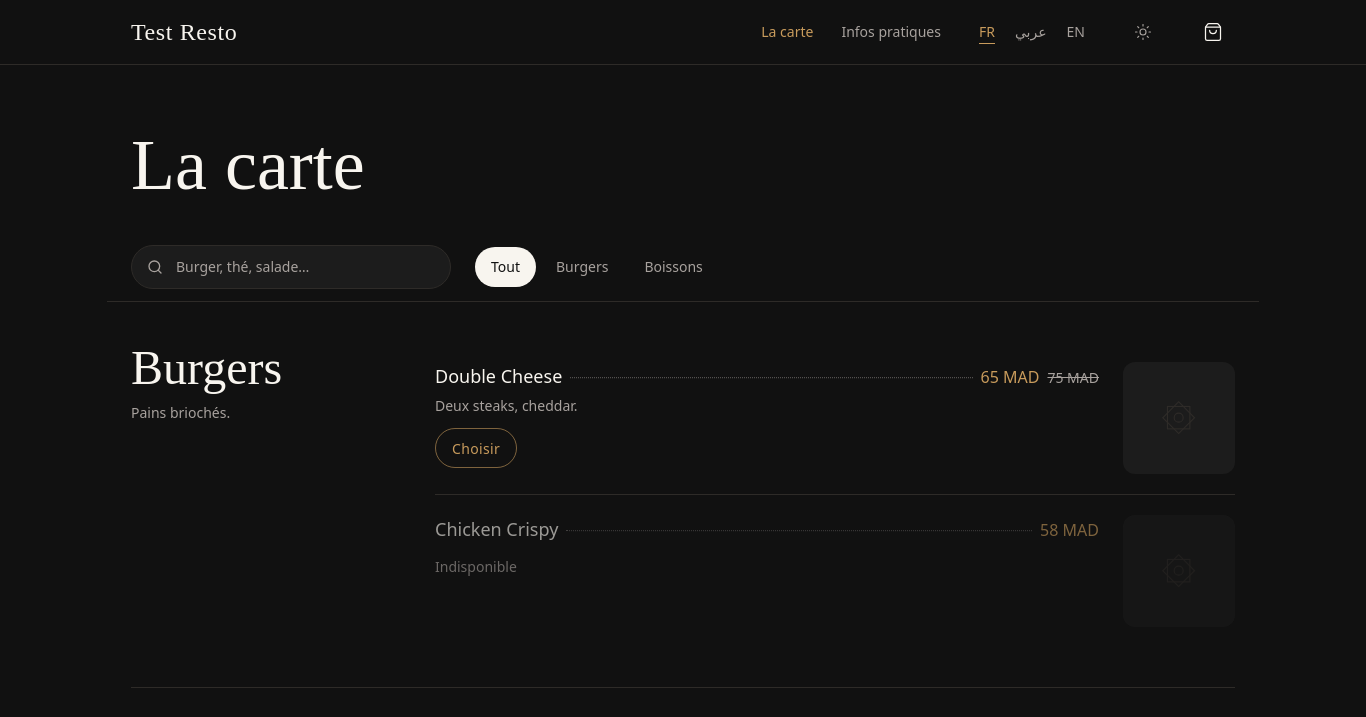
Scenario: menu page › searches through the API and shows the empty state
Expected: the element "Burgers" is shown, [131,302,1235,688]
Type "sushi" into the search field named "Rechercher un plat". click: (291, 267)
box: [131,245,451,289]
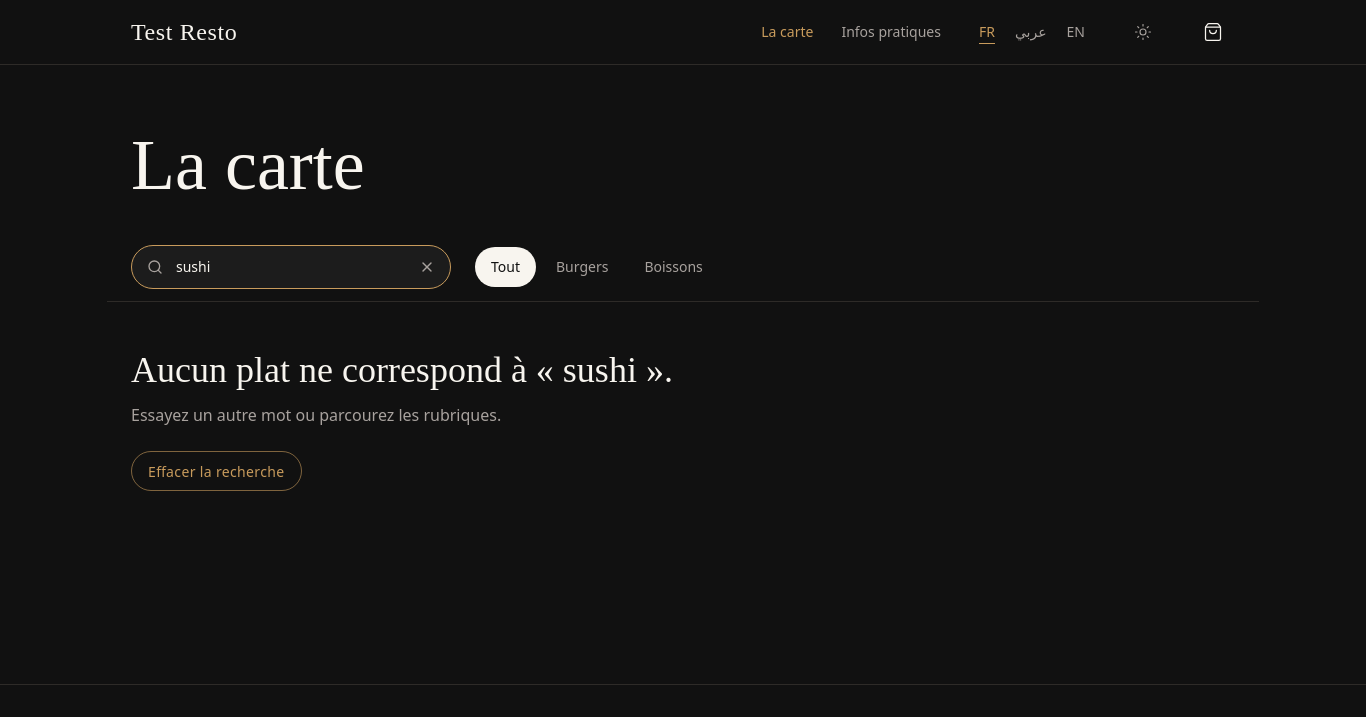
Expected: the text "Aucun plat ne correspond à « sushi »." is shown, [131,350,673,391]
